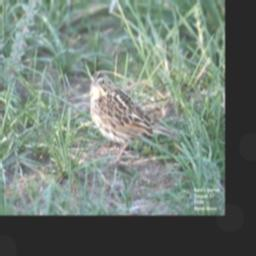Sparrow: (85, 64, 187, 167)
